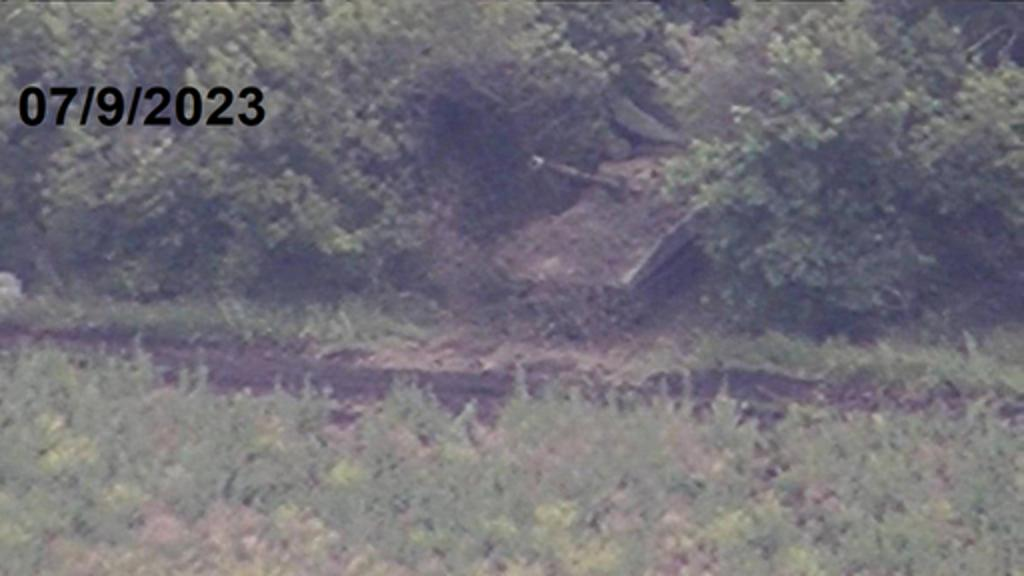ART: (484, 144, 724, 334)
